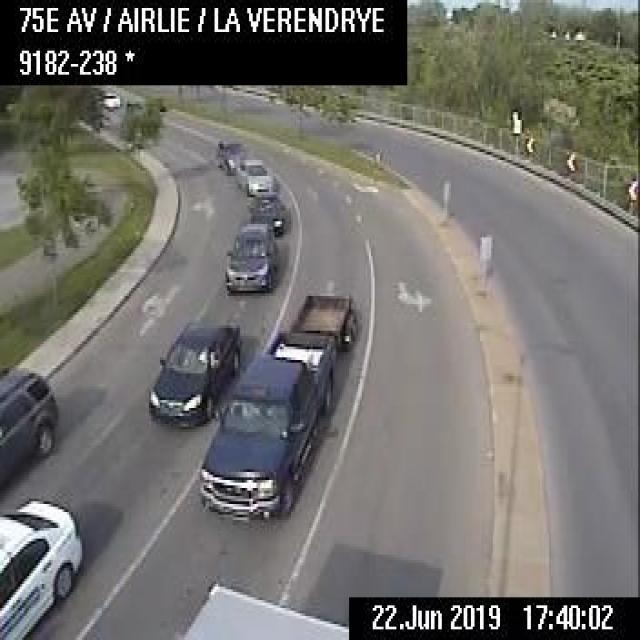vehicle: (196, 290, 356, 520), (0, 493, 84, 638), (146, 317, 242, 427), (182, 579, 347, 637), (0, 357, 58, 496), (221, 219, 276, 294), (232, 156, 276, 196), (246, 190, 285, 233), (212, 134, 246, 172), (100, 88, 122, 112)
